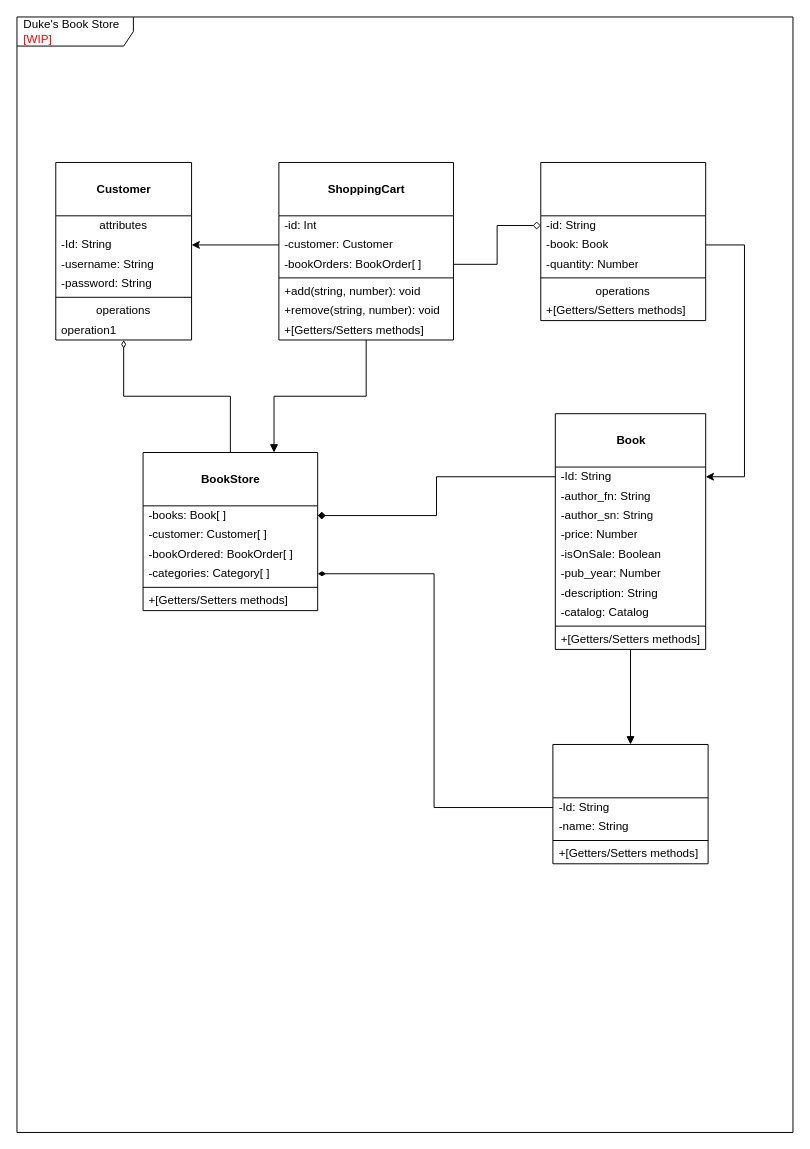
The diagram is 810 pixels wide and 1149 high, and some of its shapes have lost their labels. The box of each missing label's shape, as (x1, y1, x2, y2) in pixels:
BookOrder: (540, 162, 706, 321)
Category: (552, 744, 708, 864)
